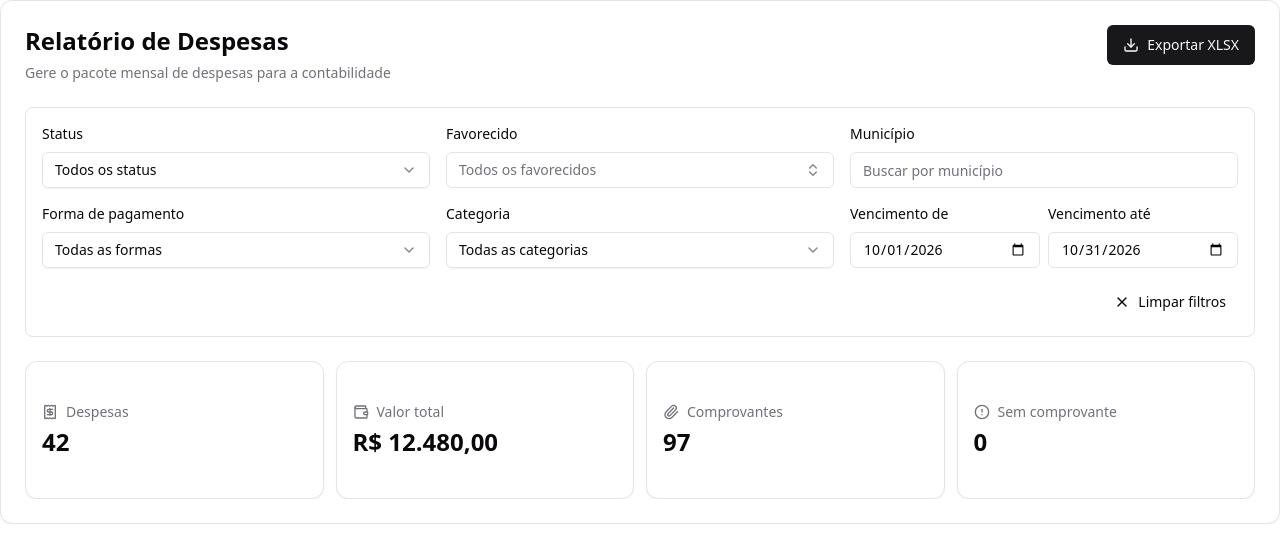
it: RelatorioDespesas › atualiza os dados do resumo quando um filtro do painel muda
Check: the text with test id "summary-expense-count" reads "42", box 42,425 -> 70,458
Type "Porto Alegre" into the field labelled "Município" at [1044, 170], box 850,152 -> 1238,188
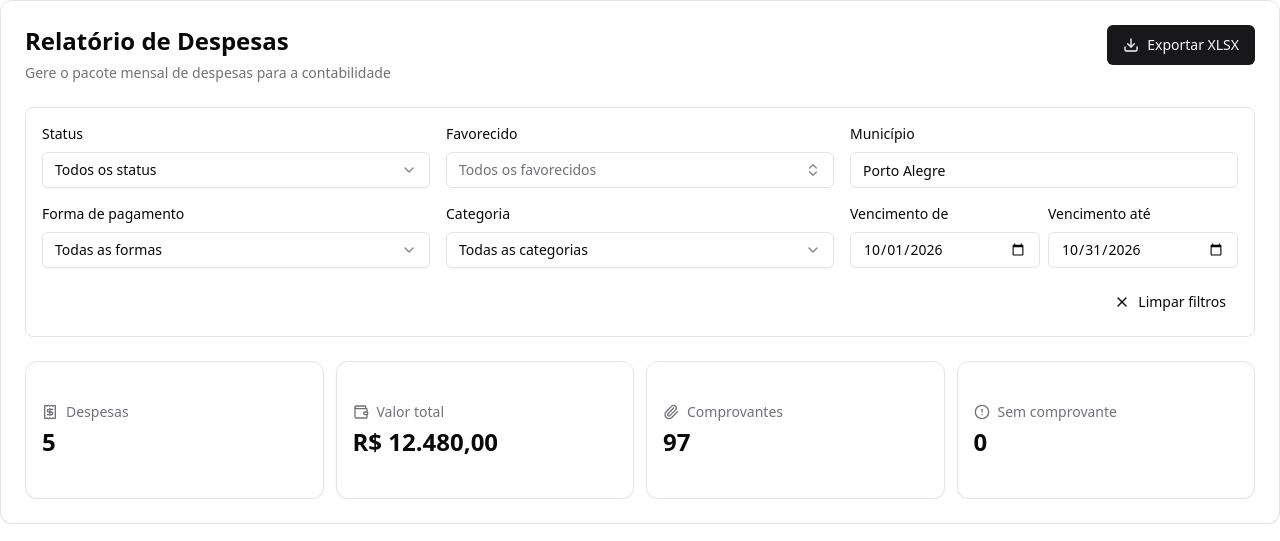
Check: the text with test id "summary-expense-count" reads "5", box 42,425 -> 56,458
